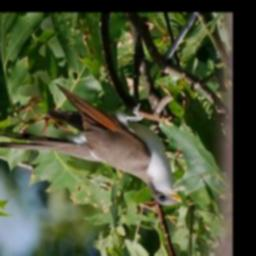Cuckoo: (0, 84, 182, 207)
